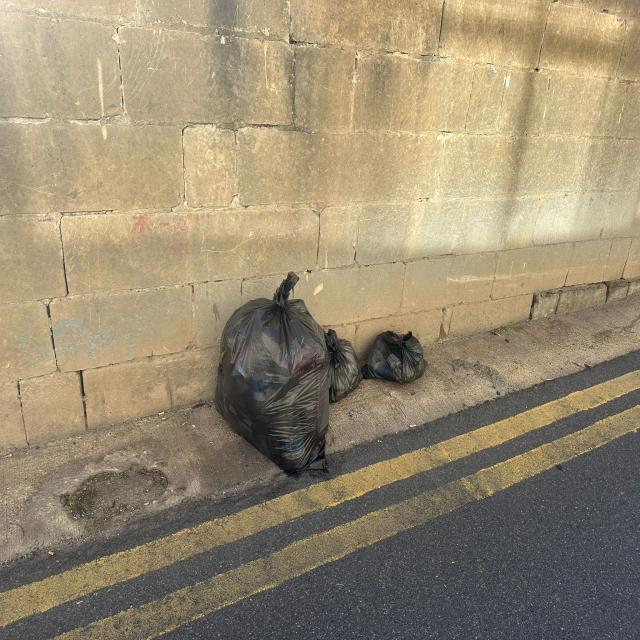black_bag: (214, 269, 330, 475), (360, 325, 434, 385), (324, 326, 364, 402)
